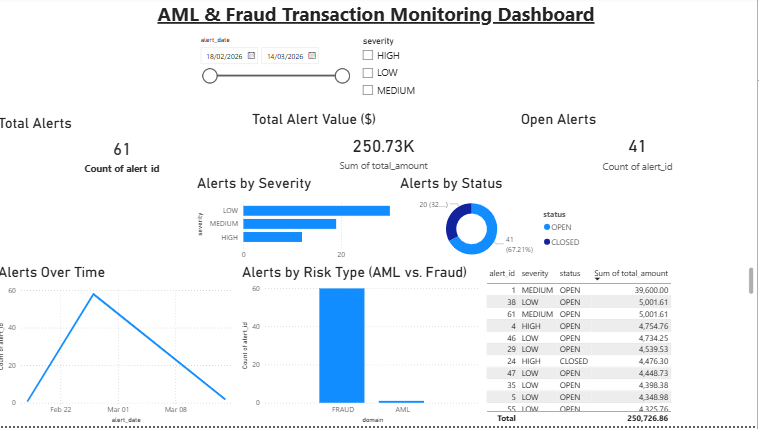

The page's visual inventory and layout, read from the dashboard file:
{"tool":"powerbi","page":{"name":"Page 1","canvas":[1280,720],"ordinal":0},"visuals":[{"type":"card","title":"Total Alerts","fields":{"Values":["CountNonNull(public alerts.alert_id)"]},"box":[0,191.5,426.7,107.5],"z":0},{"type":"card","title":"Total Alert Amount","fields":{"Values":["Sum(public alerts.total_amount)"]},"box":[426.7,191.5,451.9,107.5],"z":1000},{"type":"card","title":"Open Alerts","fields":{"Values":["CountNonNull(public alerts.alert_id)"]},"box":[878.5,191.5,401.5,105.8],"z":2000},{"type":"clusteredBarChart","title":"Alerts by Severity","fields":{"Y":["CountNonNull(public alerts.alert_id)"],"Category":["public alerts.severity"]},"box":[334.3,299,341,151.2],"z":3000},{"type":"donutChart","title":"Alerts by Status","fields":{"Category":["public alerts.status"],"Y":["CountNonNull(public alerts.alert_id)"]},"box":[675.3,299,320.8,151.2],"z":4000},{"type":"lineChart","title":"Alerts Over Time","fields":{"Category":["public alerts.alert_date"],"Y":["CountNonNull(public alerts.alert_id)"]},"box":[0,447.9,409.9,272.1],"z":5000},{"type":"columnChart","title":"Alerts by Domain","fields":{"Category":["public alerts.domain"],"Y":["CountNonNull(public alerts.alert_id)"]},"box":[409.9,447.9,409.9,272.1],"z":6000},{"type":"slicer","fields":{"Values":["public alerts.alert_date"]},"box":[332.6,60.5,272.1,131],"z":7000},{"type":"slicer","fields":{"Values":["public alerts.severity"]},"box":[604.7,60.5,309.1,131],"z":8000},{"type":"tableEx","fields":{"Values":["public alerts.alert_id","public alerts.severity","public alerts.status","Sum(public alerts.total_amount)"]},"box":[819.7,447.9,460.3,272.1],"z":9000},{"type":"textbox","box":[0,0,1280,60.5],"z":11000}]}

Visuals, with their boxes in screenshot pixels (x1, y1, x2, y2), scaled from the page's 1280x720 canvas onto the 759x429 screenshot:
"Total Alerts" card: box(0, 114, 253, 178)
"Total Alert Amount" card: box(253, 114, 521, 178)
"Open Alerts" card: box(521, 114, 758, 177)
"Alerts by Severity" clusteredBarChart: box(198, 178, 400, 268)
"Alerts by Status" donutChart: box(400, 178, 591, 268)
"Alerts Over Time" lineChart: box(0, 267, 243, 428)
"Alerts by Domain" columnChart: box(243, 267, 486, 428)
slicer - public alerts.alert_date: box(197, 36, 359, 114)
slicer - public alerts.severity: box(359, 36, 542, 114)
tableEx - public alerts.alert_id x public alerts.severity: box(486, 267, 758, 428)
textbox: box(0, 0, 758, 36)
